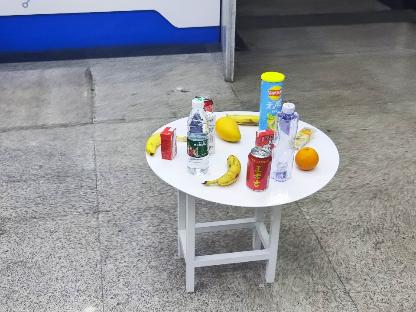Can: (248, 147, 272, 189)
Others: (161, 126, 179, 166)
Plastic Bottle: (185, 96, 213, 178), (274, 105, 294, 186)
